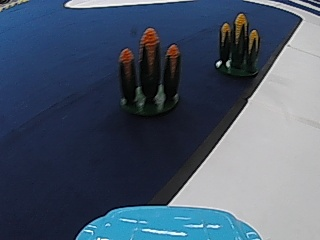corn: (116, 27, 182, 118), (213, 10, 262, 77)
